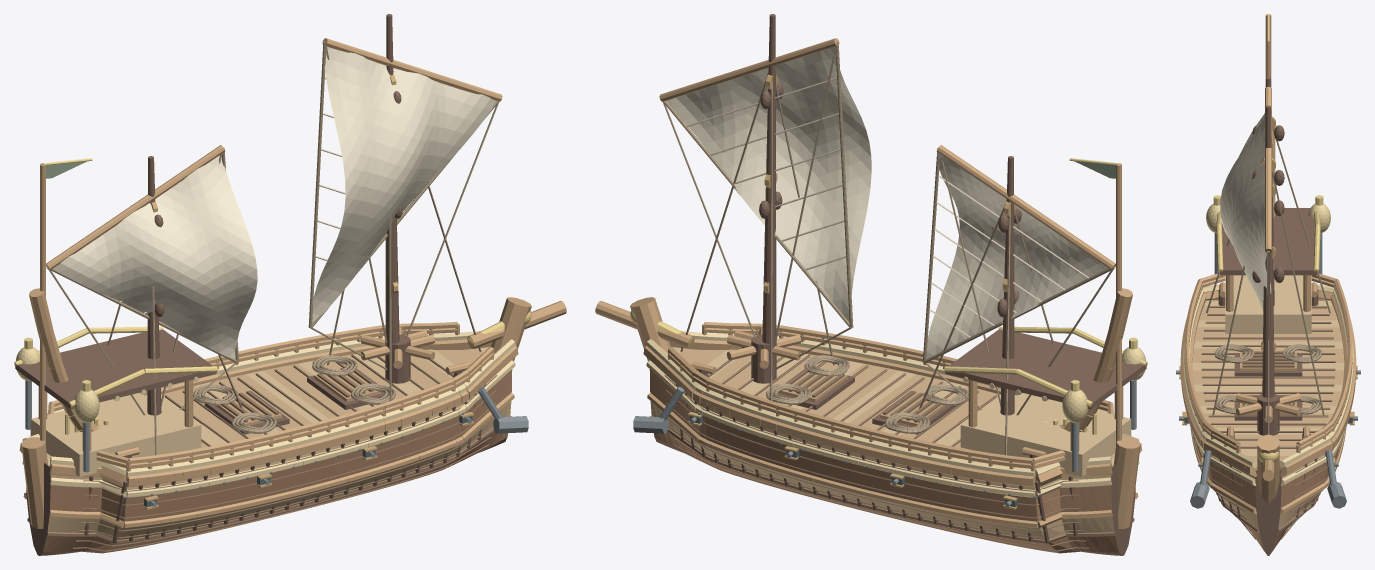
The model's file is dhow-v5.glb.
3 views of the same model, side by side, from view 1: azimuth 30°, elevation 25°; view 2: azimuth 150°, elevation 25°; view 3: azimuth 270°, elevation 25° (orthographic). The views are drawn at different scales.
Parts seen in each view (by area): view 1: dhow_sails_sail, dhow_hull_wood, dhow_hull_hull2, dhow_hull_seam, dhow_hull_pale, dhow_railings_wood, dhow_deck_decklight, dhow_deck_darkwood, dhow_hull_deck, dhow_hull_pine, dhow_rigging_rope, dhow_masts_darkwood (+14 smaller); view 2: dhow_sails_sail, dhow_hull_wood, dhow_hull_hull2, dhow_hull_seam, dhow_hull_pale, dhow_railings_wood, dhow_deck_decklight, dhow_deck_darkwood, dhow_rigging_rope, dhow_masts_darkwood, dhow_hull_deck, dhow_hull_pine (+16 smaller); view 3: dhow_hull_deck, dhow_sails_sail, dhow_hull_wood, dhow_hull_seam, dhow_hull_decklight, dhow_deck_decklight, dhow_railings_wood, dhow_deck_darkwood, dhow_hull_pale, dhow_masts_darkwood, dhow_hull_hull2, dhow_fittings_darkwood (+16 smaller).
Boxes of the visible parts, <box> form: dhow_sails_sail: <box>53,47,496,358</box>; dhow_hull_wood: <box>19,297,566,528</box>; dhow_hull_hull2: <box>43,369,512,553</box>; dhow_hull_seam: <box>27,354,511,551</box>; dhow_hull_pale: <box>22,330,515,497</box>; dhow_railings_wood: <box>48,322,494,480</box>; dhow_deck_decklight: <box>30,393,201,476</box>; dhow_deck_darkwood: <box>15,329,216,409</box>; dhow_hull_deck: <box>46,348,482,468</box>; dhow_hull_pine: <box>47,346,511,539</box>; dhow_rigging_rope: <box>46,41,499,415</box>; dhow_masts_darkwood: <box>147,14,402,415</box>; dhow_sails_sail: <box>667,45,1107,358</box>; dhow_hull_wood: <box>595,297,1142,528</box>; dhow_hull_hull2: <box>649,369,1118,553</box>; dhow_hull_seam: <box>650,354,1134,551</box>; dhow_hull_pale: <box>646,330,1139,497</box>; dhow_railings_wood: <box>667,322,1113,480</box>; dhow_deck_decklight: <box>960,393,1131,476</box>; dhow_deck_darkwood: <box>945,329,1146,409</box>; dhow_rigging_rope: <box>662,41,1115,415</box>; dhow_masts_darkwood: <box>759,14,1021,415</box>; dhow_hull_deck: <box>679,348,1115,468</box>; dhow_hull_pine: <box>650,346,1114,539</box>; dhow_hull_deck: <box>1192,306,1344,461</box>; dhow_sails_sail: <box>1220,113,1271,310</box>; dhow_hull_wood: <box>1180,290,1356,514</box>; dhow_hull_seam: <box>1193,298,1343,539</box>; dhow_hull_decklight: <box>1192,300,1344,455</box>; dhow_deck_decklight: <box>1225,275,1311,333</box>; dhow_railings_wood: <box>1184,273,1352,453</box>; dhow_deck_darkwood: <box>1220,208,1316,275</box>; dhow_hull_pale: <box>1183,284,1353,485</box>; dhow_masts_darkwood: <box>1252,77,1284,397</box>; dhow_hull_hull2: <box>1197,446,1339,549</box>; dhow_fittings_darkwood: <box>1218,289,1318,439</box>.
Size of the model in its own units: 44.53 by 36.43 by 14.98.
